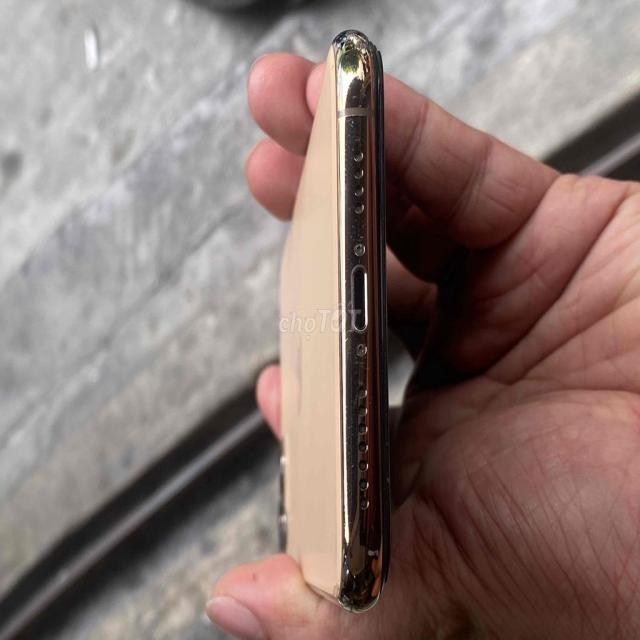gen_11: (267, 22, 417, 621)
scratch: (339, 276, 393, 600), (342, 36, 388, 268)
